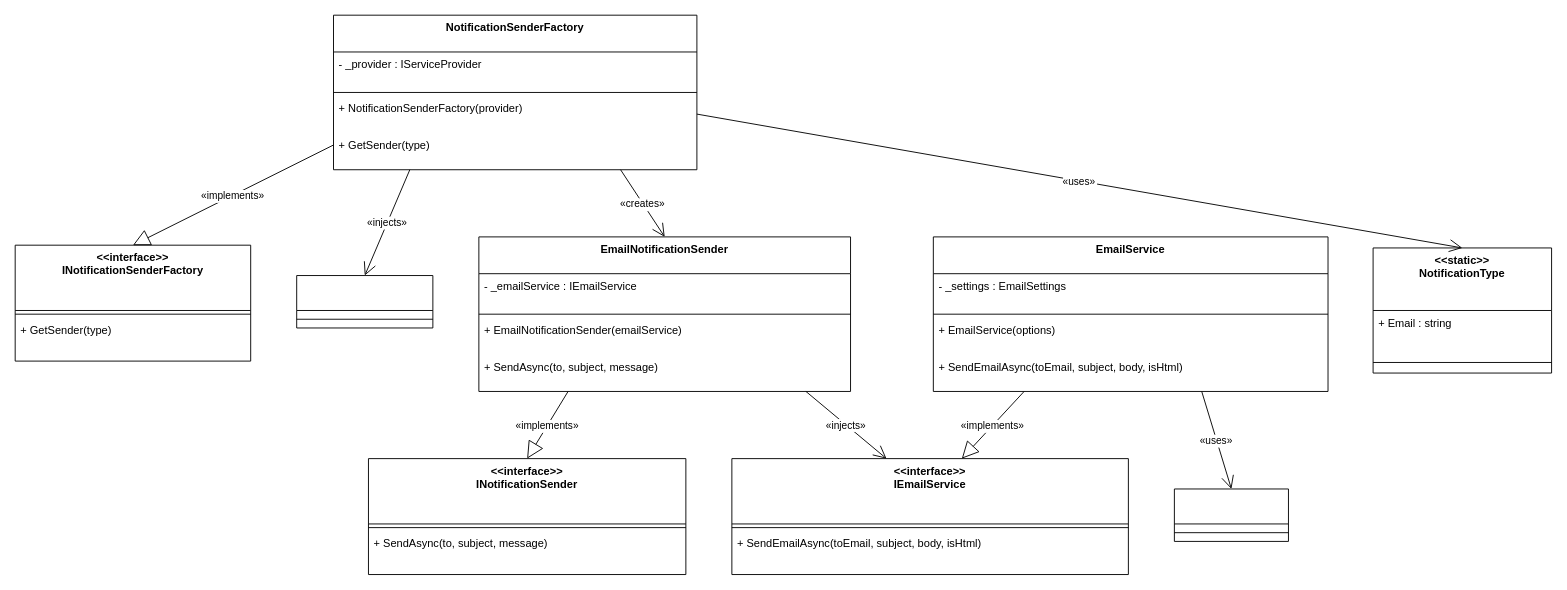
This 1567x590 diagram has some shape labels left out. Each missing label, with the box of its shape:
EmailSettings: (1173, 488, 1288, 541)
IServiceProvider: (296, 275, 433, 328)
